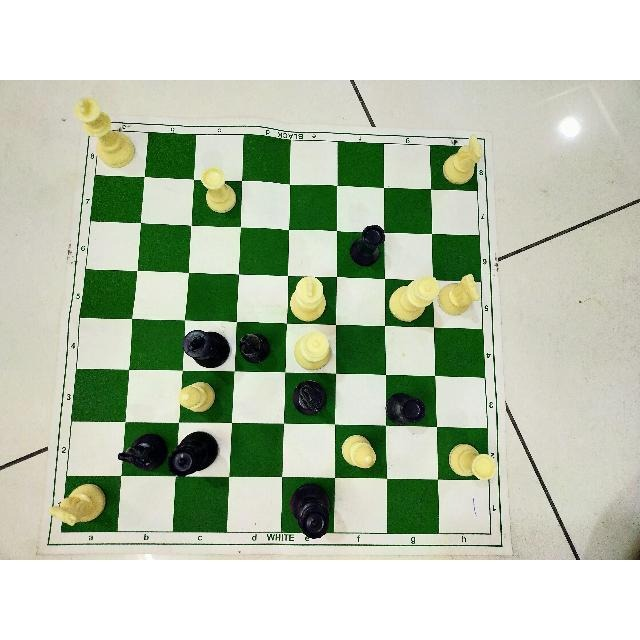black-bishop: (233, 332, 272, 367)
black-king: (179, 327, 233, 371)
black-knight: (115, 432, 169, 472), (290, 378, 330, 418)
black-queen: (164, 429, 221, 479), (288, 478, 332, 541)
black-rook: (347, 221, 386, 270), (385, 389, 427, 429)
white-bishop: (176, 378, 218, 414), (339, 432, 379, 469)
white-king: (68, 95, 137, 171), (289, 275, 329, 325)
white-knight: (46, 482, 108, 528), (440, 132, 484, 186), (439, 273, 481, 317)
white-queen: (388, 275, 442, 323), (292, 327, 334, 372)
white-rook: (445, 440, 497, 482), (198, 164, 238, 214)
